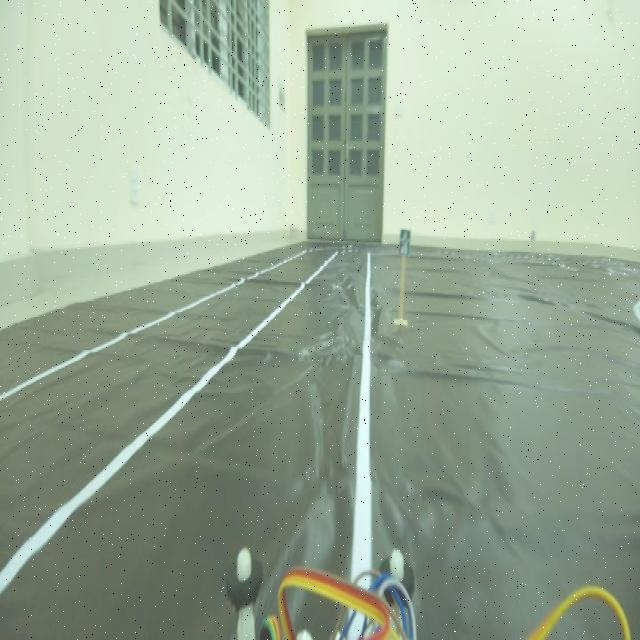highway_exit: (396, 226, 414, 259)
